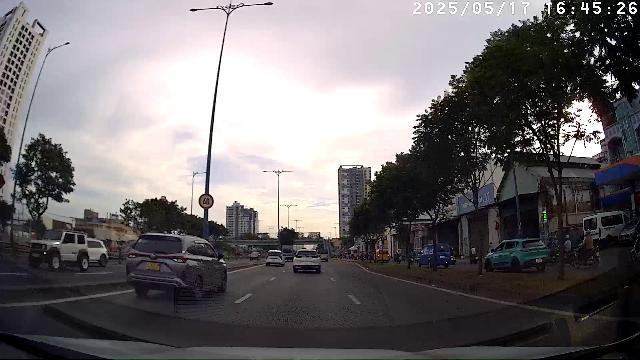127-toc-do-toi-da-60: (198, 194, 214, 210)
